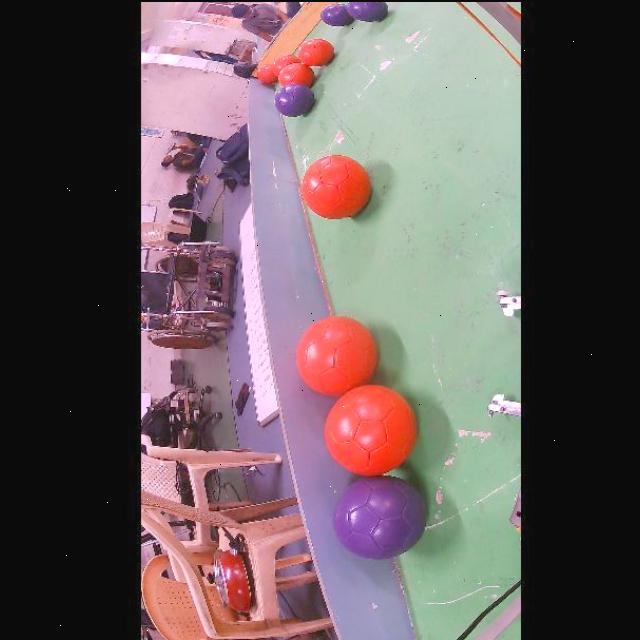P: (332, 475, 425, 558), (274, 82, 313, 115), (345, 0, 387, 20), (320, 1, 353, 25)
R: (325, 384, 416, 475), (295, 314, 377, 395), (300, 153, 370, 218), (297, 37, 333, 65), (277, 61, 313, 84), (271, 53, 300, 74), (256, 62, 277, 82)
